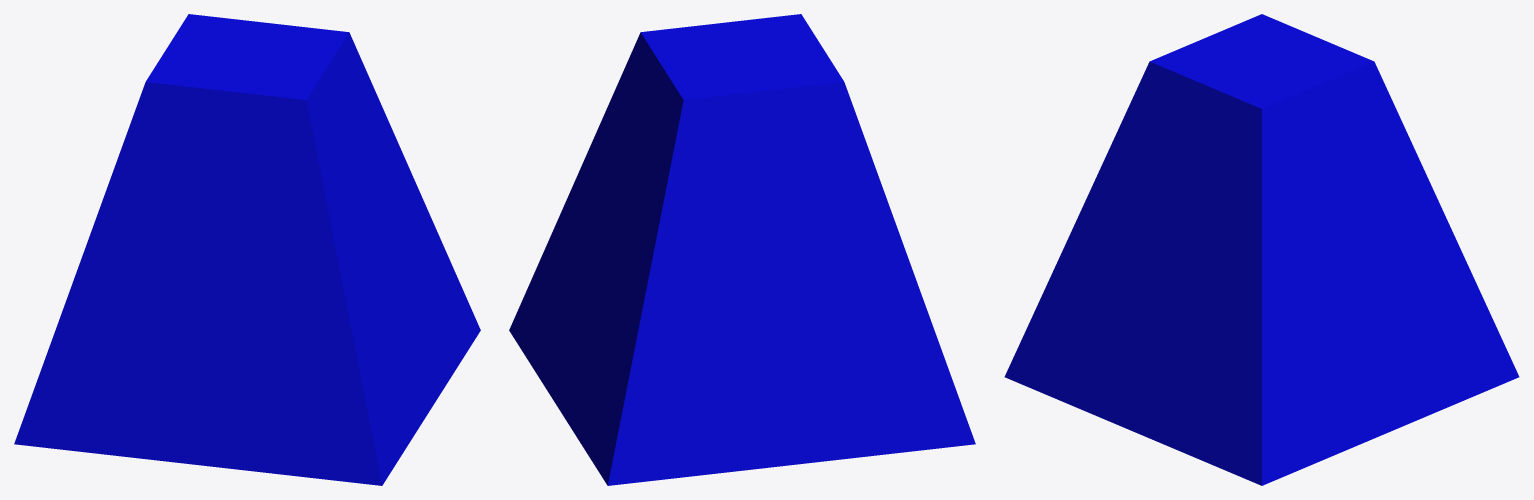
File: tronco-face.glb
3 views of the same model, side by side, from view 1: azimuth 30°, elevation 25°; view 2: azimuth 150°, elevation 25°; view 3: azimuth 270°, elevation 25° (orthographic). The views are drawn at different scales.
Visible parts, largest first — view 1: Cone; view 2: Cone; view 3: Cone.
Part boxes in pixels (x1,y1,x2,y2): Cone: [14, 14, 480, 485]; Cone: [509, 14, 975, 485]; Cone: [1004, 14, 1519, 485].
Bounding box in the file's own units: 1.42 × 0.96 × 1.42.
